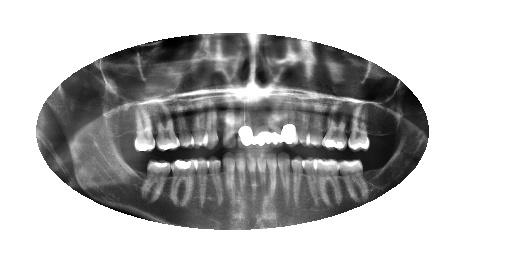i10healthy: (235, 151, 247, 202)
i11healthy: (222, 151, 236, 204)
i12healthy: (207, 154, 224, 207)
i13healthy: (193, 156, 209, 208)
i14healthy: (169, 156, 197, 206)
i15healthy: (140, 158, 173, 205)
i2healthy: (339, 158, 369, 202)
i3healthy: (315, 154, 342, 209)
i4healthy: (302, 155, 321, 205)
i5healthy: (290, 151, 304, 206)
i6healthy: (278, 152, 291, 202)
i7healthy: (267, 152, 278, 201)
i8healthy: (256, 151, 267, 201)
i9healthy: (246, 150, 257, 201)
u10healthy: (224, 106, 238, 150)
u11healthy: (203, 104, 219, 151)
u12healthy: (191, 103, 208, 148)
u13healthy: (175, 103, 195, 148)
u14healthy: (154, 101, 181, 152)
u15healthy: (133, 104, 156, 153)
u2healthy: (348, 105, 371, 151)
u3healthy: (323, 106, 347, 150)
u4healthy: (310, 110, 323, 147)
u5healthy: (298, 110, 310, 147)
u6healthy: (283, 106, 298, 146)
u7healthy: (268, 105, 282, 148)
u8healthy: (254, 108, 267, 148)
u9healthy: (238, 107, 254, 150)
